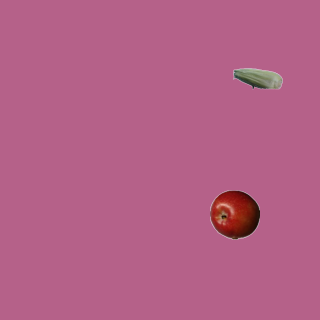Apple Braeburn: (209, 189, 259, 239)
Corn Husk: (232, 53, 282, 103)
